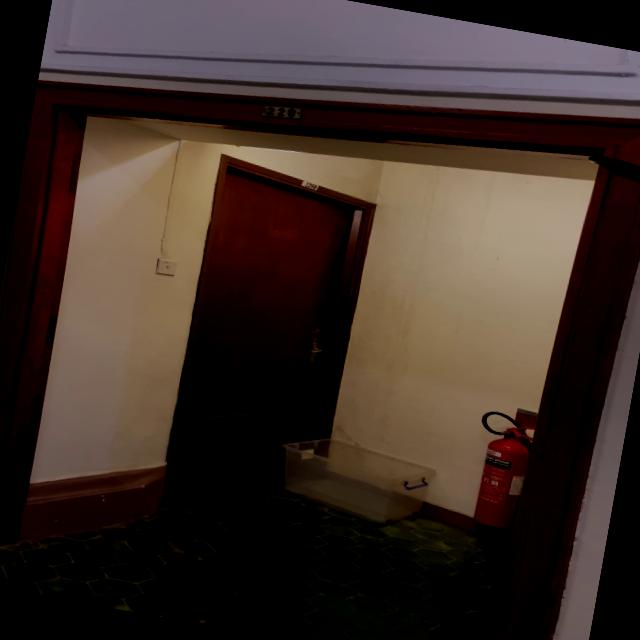room229: (256, 98, 305, 125)
